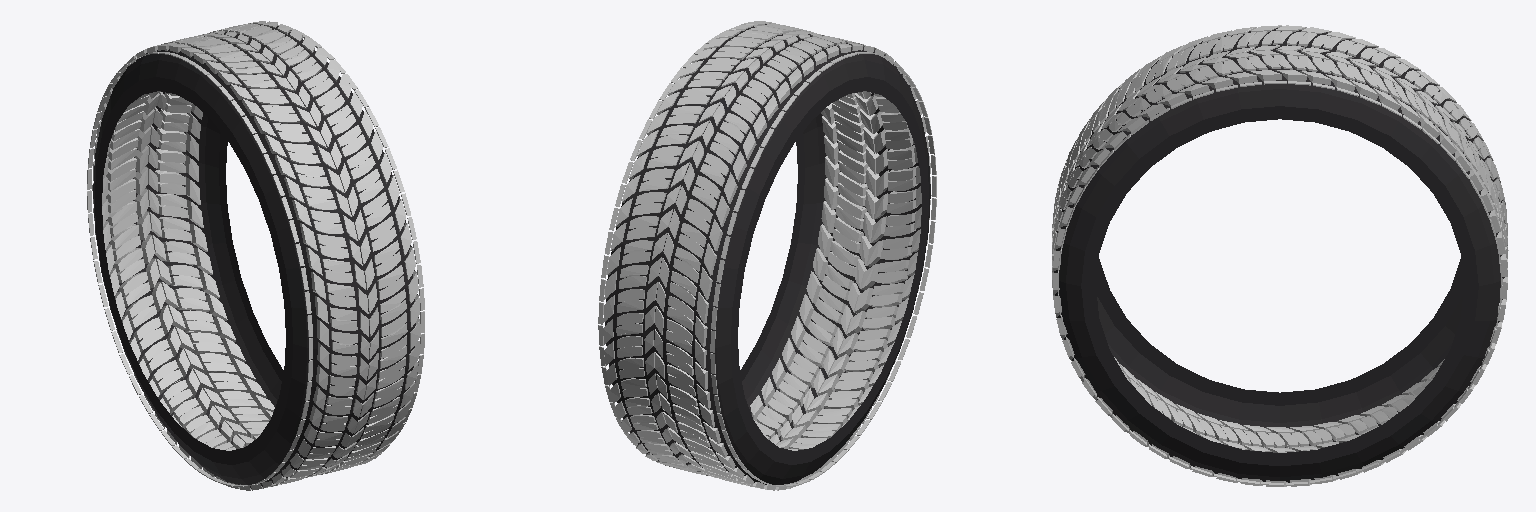
The model's file is whiteTyre.obj.
The picture shows the model from 3 angles: view 1: azimuth 30°, elevation 25°; view 2: azimuth 150°, elevation 25°; view 3: azimuth 270°, elevation 25°; orthographic projection.
Visible parts, largest first — view 1: Better_Tread_Cube.002, Cylinder; view 2: Better_Tread_Cube.002, Cylinder; view 3: Cylinder, Better_Tread_Cube.002.
Boxes of the visible parts, x1=… form: Better_Tread_Cube.002: x1=87, y1=21, x2=424, y2=490; Cylinder: x1=93, y1=25, x2=418, y2=488; Better_Tread_Cube.002: x1=598, y1=21, x2=936, y2=490; Cylinder: x1=605, y1=24, x2=930, y2=484; Cylinder: x1=1054, y1=28, x2=1504, y2=482; Better_Tread_Cube.002: x1=1052, y1=25, x2=1508, y2=486.
Bounding box in the file's own units: 0.2326 × 0.7422 × 0.7422.